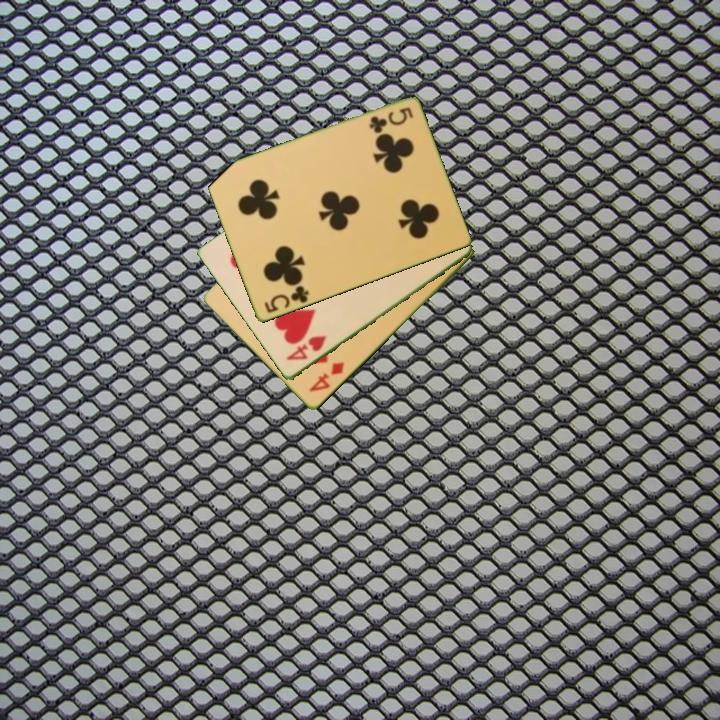4d: (305, 359, 347, 396)
4h: (282, 332, 330, 364)
5c: (261, 282, 312, 316), (365, 104, 416, 136)
